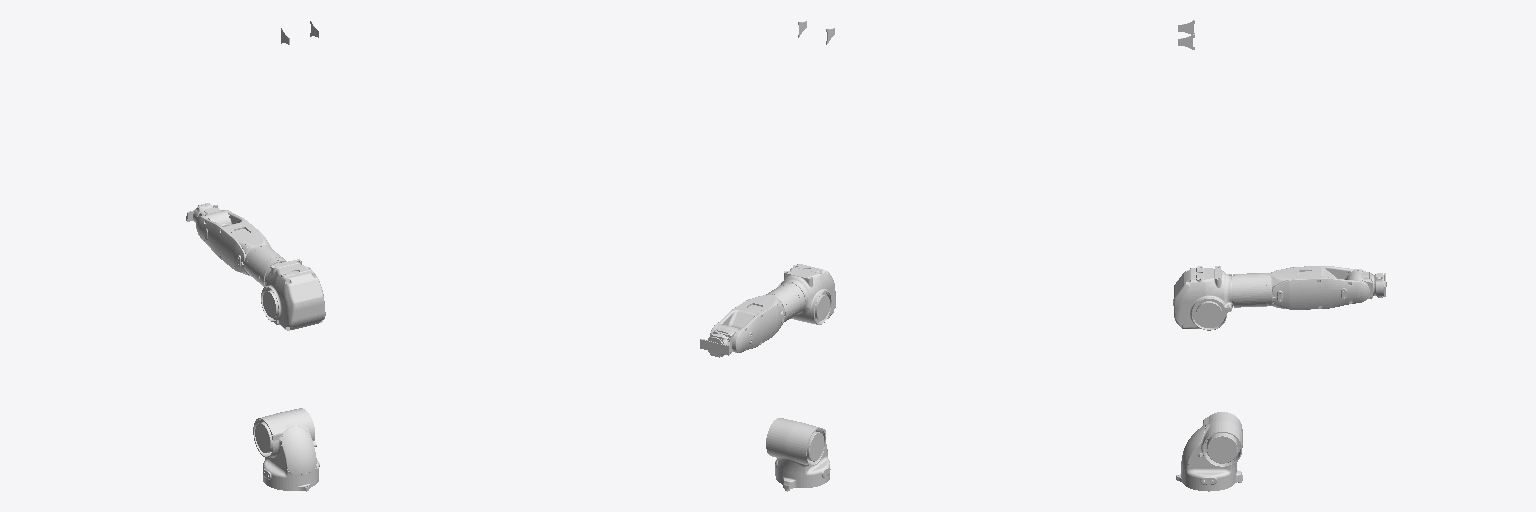
The robot description file, URDF, robot "robo2":
<?xml version="1.0" encoding="utf-8"?>
<!-- This URDF was automatically created by SolidWorks to URDF Exporter! Originally created by Stephen Brawner (brawner@gmail.com) 
     Commit Version: 1.6.0-4-g7f85cfe  Build Version: 1.6.7995.38578
     For more information, please see http://wiki.ros.org/sw_urdf_exporter -->
<robot
  name="robo2">
  <link
    name="base_link">
    <inertial>
      <origin
        xyz="0.0055689 -6.2707E-07 0.094758"
        rpy="0 0 0" />
      <mass
        value="5.2154" />
      <inertia
        ixx="0.026026"
        ixy="-2.5925E-05"
        ixz="-0.00013984"
        iyy="0.025295"
        iyz="4.7678E-05"
        izz="0.021721" />
    </inertial>
    <visual>
      <origin
        xyz="0 0 0"
        rpy="0 0 0" />
      <geometry>
        <mesh
          filename="package://robo2/meshes/base_link.STL" />
      </geometry>
      <material
        name="">
        <color
          rgba="0.89412 0.89412 0.89412 1" />
      </material>
    </visual>
    <collision>
      <origin
        xyz="0 0 0"
        rpy="0 0 0" />
      <geometry>
        <mesh
          filename="package://robo2/meshes/base_link.STL" />
      </geometry>
    </collision>
  </link>
  <link
    name="Link_1">
    <inertial>
      <origin
        xyz="0.00019588 0.015671 0.08669"
        rpy="0 0 0" />
      <mass
        value="2.9447" />
      <inertia
        ixx="0.011947"
        ixy="-4.7017E-06"
        ixz="-9.7605E-06"
        iyy="0.011181"
        iyz="-0.0021792"
        izz="0.0088687" />
    </inertial>
    <visual>
      <origin
        xyz="0 0 0"
        rpy="0 0 0" />
      <geometry>
        <mesh
          filename="package://robo2/meshes/Link_1.STL" />
      </geometry>
      <material
        name="">
        <color
          rgba="0.89412 0.89412 0.89412 1" />
      </material>
    </visual>
    <collision>
      <origin
        xyz="0 0 0"
        rpy="0 0 0" />
      <geometry>
        <mesh
          filename="package://robo2/meshes/Link_1.STL" />
      </geometry>
    </collision>
  </link>
  <joint
    name="L0_L1_Joint"
    type="revolute">
    <origin
      xyz="0 0 0.20326"
      rpy="0 0 0" />
    <parent
      link="base_link" />
    <child
      link="Link_1" />
    <axis
      xyz="0 0 -1" />
    <limit
      lower="-3.14"
      upper="3.14"
      effort="2"
      velocity="2" />
  </joint>
  <link
    name="Link_2">
    <inertial>
      <origin
        xyz="-0.0046887 0.1918 -0.00022028"
        rpy="0 0 0" />
      <mass
        value="6.2405" />
      <inertia
        ixx="0.12557"
        ixy="0.0084529"
        ixz="5.916E-05"
        iyy="0.028487"
        iyz="0.00051786"
        izz="0.11052" />
    </inertial>
    <visual>
      <origin
        xyz="0 0 0"
        rpy="0 0 0" />
      <geometry>
        <mesh
          filename="package://robo2/meshes/Link_2.STL" />
      </geometry>
      <material
        name="">
        <color
          rgba="0.89412 0.89412 0.89412 1" />
      </material>
    </visual>
    <collision>
      <origin
        xyz="0 0 0"
        rpy="0 0 0" />
      <geometry>
        <mesh
          filename="package://robo2/meshes/Link_2.STL" />
      </geometry>
    </collision>
  </link>
  <joint
    name="L1_L2_Joint"
    type="revolute">
    <origin
      xyz="0 0 0.12674"
      rpy="1.5708 0 1.5708" />
    <parent
      link="Link_1" />
    <child
      link="Link_2" />
    <axis
      xyz="-0.0039166 0 0.99999" />
    <limit
      lower="-3.14"
      upper="3.14"
      effort="2"
      velocity="2" />
  </joint>
  <link
    name="Link_3">
    <inertial>
      <origin
        xyz="0.019315 0.016802 0.00078811"
        rpy="0 0 0" />
      <mass
        value="2.8492" />
      <inertia
        ixx="0.0068552"
        ixy="0.00084153"
        ixz="3.4001E-05"
        iyy="0.0083111"
        iyz="2.8648E-05"
        izz="0.0077913" />
    </inertial>
    <visual>
      <origin
        xyz="0 0 0"
        rpy="0 0 0" />
      <geometry>
        <mesh
          filename="package://robo2/meshes/Link_3.STL" />
      </geometry>
      <material
        name="">
        <color
          rgba="0.89412 0.89412 0.89412 1" />
      </material>
    </visual>
    <collision>
      <origin
        xyz="0 0 0"
        rpy="0 0 0" />
      <geometry>
        <mesh
          filename="package://robo2/meshes/Link_3.STL" />
      </geometry>
    </collision>
  </link>
  <joint
    name="L2_L3_Joint"
    type="revolute">
    <origin
      xyz="0.00081105 0.44327 0"
      rpy="0 0 1.5708" />
    <parent
      link="Link_2" />
    <child
      link="Link_3" />
    <axis
      xyz="0 0.0039166 0.99999" />
    <limit
      lower="-3.14"
      upper="3.14"
      effort="2"
      velocity="2" />
  </joint>
  <link
    name="Link_4">
    <inertial>
      <origin
        xyz="0.011001 -0.24652 0.00080799"
        rpy="0 0 0" />
      <mass
        value="2.7554" />
      <inertia
        ixx="0.010071"
        ixy="0.00031236"
        ixz="-1.7231E-05"
        iyy="0.0031023"
        iyz="0.00034831"
        izz="0.010782" />
    </inertial>
    <visual>
      <origin
        xyz="0 0 0"
        rpy="0 0 0" />
      <geometry>
        <mesh
          filename="package://robo2/meshes/Link_4.STL" />
      </geometry>
      <material
        name="">
        <color
          rgba="0.89412 0.89412 0.89412 1" />
      </material>
    </visual>
    <collision>
      <origin
        xyz="0 0 0"
        rpy="0 0 0" />
      <geometry>
        <mesh
          filename="package://robo2/meshes/Link_4.STL" />
      </geometry>
    </collision>
  </link>
  <joint
    name="L3_L4_Joint"
    type="revolute">
    <origin
      xyz="0.040004 0.00081105 0"
      rpy="0 0 0" />
    <parent
      link="Link_3" />
    <child
      link="Link_4" />
    <axis
      xyz="-0.045196 0.99897 -0.0039126" />
    <limit
      lower="-3.14"
      upper="3.14"
      effort="2"
      velocity="2" />
  </joint>
  <link
    name="Link_5">
    <inertial>
      <origin
        xyz="0.013171 0.00090306 0.0027997"
        rpy="0 0 0" />
      <mass
        value="0.24589" />
      <inertia
        ixx="0.00015699"
        ixy="-1.2606E-06"
        ixz="1.188E-06"
        iyy="0.00013937"
        iyz="-7.9799E-08"
        izz="0.00018563" />
    </inertial>
    <visual>
      <origin
        xyz="0 0 0"
        rpy="0 0 0" />
      <geometry>
        <mesh
          filename="package://robo2/meshes/Link_5.STL" />
      </geometry>
      <material
        name="">
        <color
          rgba="0.89412 0.89412 0.89412 1" />
      </material>
    </visual>
    <collision>
      <origin
        xyz="0 0 0"
        rpy="0 0 0" />
      <geometry>
        <mesh
          filename="package://robo2/meshes/Link_5.STL" />
      </geometry>
    </collision>
  </link>
  <joint
    name="L4_L5_Joint"
    type="revolute">
    <origin
      xyz="0.019932 -0.44055 0.0017255"
      rpy="0 0 -1.5708" />
    <parent
      link="Link_4" />
    <child
      link="Link_5" />
    <axis
      xyz="-0.0039733 0.0012536 0.99999" />
    <limit
      lower="-3.14"
      upper="3.14"
      effort="2"
      velocity="2" />
  </joint>
  <link
    name="Link_6">
    <inertial>
      <origin
        xyz="0.003766 0.0013248 0.076346"
        rpy="0 0 0" />
      <mass
        value="0.04334" />
      <inertia
        ixx="1.9535E-05"
        ixy="-9.1754E-08"
        ixz="3.0297E-07"
        iyy="7.0146E-06"
        iyz="7.6313E-08"
        izz="2.5731E-05" />
    </inertial>
    <visual>
      <origin
        xyz="0 0 0"
        rpy="0 0 0" />
      <geometry>
        <mesh
          filename="package://robo2/meshes/Link_6.STL" />
      </geometry>
      <material
        name="">
        <color
          rgba="0.89412 0.89412 0.89412 1" />
      </material>
    </visual>
    <collision>
      <origin
        xyz="0 0 0"
        rpy="0 0 0" />
      <geometry>
        <mesh
          filename="package://robo2/meshes/Link_6.STL" />
      </geometry>
    </collision>
  </link>
  <joint
    name="L5_L6_Joint"
    type="revolute">
    <origin
      xyz="0 0 0"
      rpy="1.5708 0 1.5708" />
    <parent
      link="Link_5" />
    <child
      link="Link_6" />
    <axis
      xyz="-0.048901 -0.0039072 -0.9988" />
    <limit
      lower="-3.14"
      upper="3.14"
      effort="2"
      velocity="2" />
  </joint>
  <link
    name="Link_7">
    <inertial>
      <origin
        xyz="0.049 -5.5511E-16 0.024452"
        rpy="0 0 0" />
      <mass
        value="0.0030079" />
      <inertia
        ixx="9.1654E-07"
        ixy="-4.8481E-23"
        ixz="1.1725E-22"
        iyy="5.7354E-07"
        iyz="1.6709E-22"
        izz="3.45E-07" />
    </inertial>
    <visual>
      <origin
        xyz="0 0 0"
        rpy="0 0 0" />
      <geometry>
        <mesh
          filename="package://robo2/meshes/Link_7.STL" />
      </geometry>
      <material
        name="">
        <color
          rgba="0.89412 0.89412 0.89412 1" />
      </material>
    </visual>
    <collision>
      <origin
        xyz="0 0 0"
        rpy="0 0 0" />
      <geometry>
        <mesh
          filename="package://robo2/meshes/Link_7.STL" />
      </geometry>
    </collision>
  </link>
  <joint
    name="L6_L7_Joint"
    type="prismatic">
    <origin
      xyz="0.00384 0.0013067 0.078402"
      rpy="-0.048886 -0.0043229 -1.5792" />
    <parent
      link="Link_6" />
    <child
      link="Link_7" />
    <axis
      xyz="-1 0 0" />
    <limit
      lower="0"
      upper="0.05"
      effort="2"
      velocity="2" />
  </joint>
  <link
    name="Link_7.2">
    <inertial>
      <origin
        xyz="-0.049 -2.2204E-16 0.024452"
        rpy="0 0 0" />
      <mass
        value="0.0030079" />
      <inertia
        ixx="9.1654E-07"
        ixy="4.3802E-23"
        ixz="-4.4875E-23"
        iyy="5.7354E-07"
        iyz="3.9539E-22"
        izz="3.45E-07" />
    </inertial>
    <visual>
      <origin
        xyz="0 0 0"
        rpy="0 0 0" />
      <geometry>
        <mesh
          filename="package://robo2/meshes/Link_7.2.STL" />
      </geometry>
      <material
        name="">
        <color
          rgba="0.89412 0.89412 0.89412 1" />
      </material>
    </visual>
    <collision>
      <origin
        xyz="0 0 0"
        rpy="0 0 0" />
      <geometry>
        <mesh
          filename="package://robo2/meshes/Link_7.2.STL" />
      </geometry>
    </collision>
  </link>
  <joint
    name="L6_L7.2"
    type="prismatic">
    <origin
      xyz="0.00384 0.0013067 0.078402"
      rpy="-0.048886 -0.0043229 -1.5792" />
    <parent
      link="Link_6" />
    <child
      link="Link_7.2" />
    <axis
      xyz="-1 0 0" />
    <limit
      lower="0"
      upper="0.05"
      effort="2"
      velocity="2" />
  </joint>
</robot>

--- Facts derived from the render (not from the file) ---
Views: 3 orthographic renders of the robot side by side, from view 1: azimuth 30°, elevation 25°; view 2: azimuth 150°, elevation 25°; view 3: azimuth 270°, elevation 25°.
Robot: robo2 — 9 links, 8 joints (6 revolute, 2 prismatic); root link base_link; default pose: all joints at 0.
Visible links, largest first — view 1: Link_1, Link_3, Link_4; view 2: Link_1, Link_4, Link_3; view 3: Link_4, Link_1, Link_3, Link_5.
Link boxes in pixels (x1,y1,x2,y2): Link_1: (253, 408, 319, 491); Link_3: (261, 259, 325, 330); Link_4: (196, 210, 286, 286); Link_1: (766, 418, 830, 491); Link_4: (710, 283, 804, 352); Link_3: (778, 264, 835, 324); Link_4: (1233, 266, 1369, 309); Link_1: (1176, 412, 1242, 491); Link_3: (1173, 266, 1233, 330); Link_5: (1346, 271, 1383, 298).
Size in the robot's own frame: 0.1662 by 0.6312 by 1.48 metres.
7 mesh visuals loaded from 9 distinct referenced files (7 binary STL); not drawn: 2 (reference not matched to a file when rendering).
